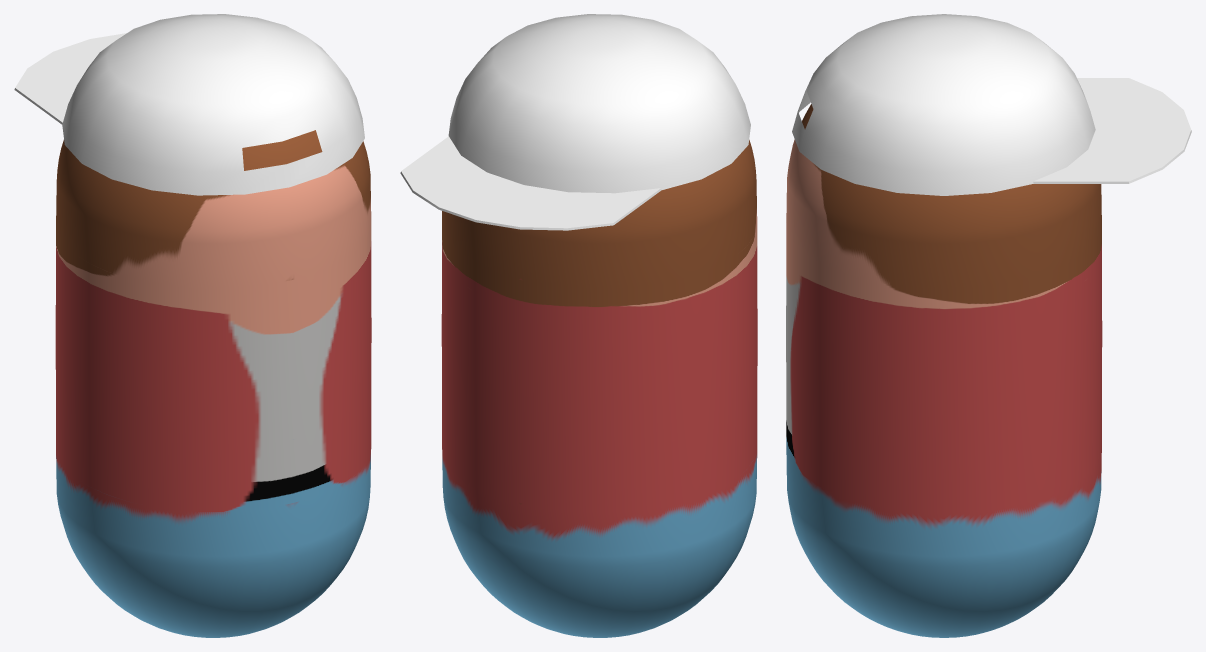
Rendered from boy3Capsule.fbx.
The picture shows the model from 3 angles, left to right: view 1: azimuth 30°, elevation 25°; view 2: azimuth 150°, elevation 25°; view 3: azimuth 270°, elevation 25°; orthographic projection.
Visible parts, largest first — view 1: pCylinder4, pSphere3; view 2: pCylinder4, pSphere3; view 3: pCylinder4, pSphere3.
Boxes of the visible parts, left/top/right/bottom form: pCylinder4: left=55, top=130, right=371, bottom=637; pSphere3: left=14, top=14, right=364, bottom=195; pCylinder4: left=441, top=140, right=757, bottom=637; pSphere3: left=400, top=14, right=750, bottom=230; pCylinder4: left=786, top=104, right=1102, bottom=637; pSphere3: left=792, top=14, right=1191, bottom=195.
Size of the model in its own units: 1.98 by 4.05 by 2.54.
Materials: 2 (1 with a texture image).
